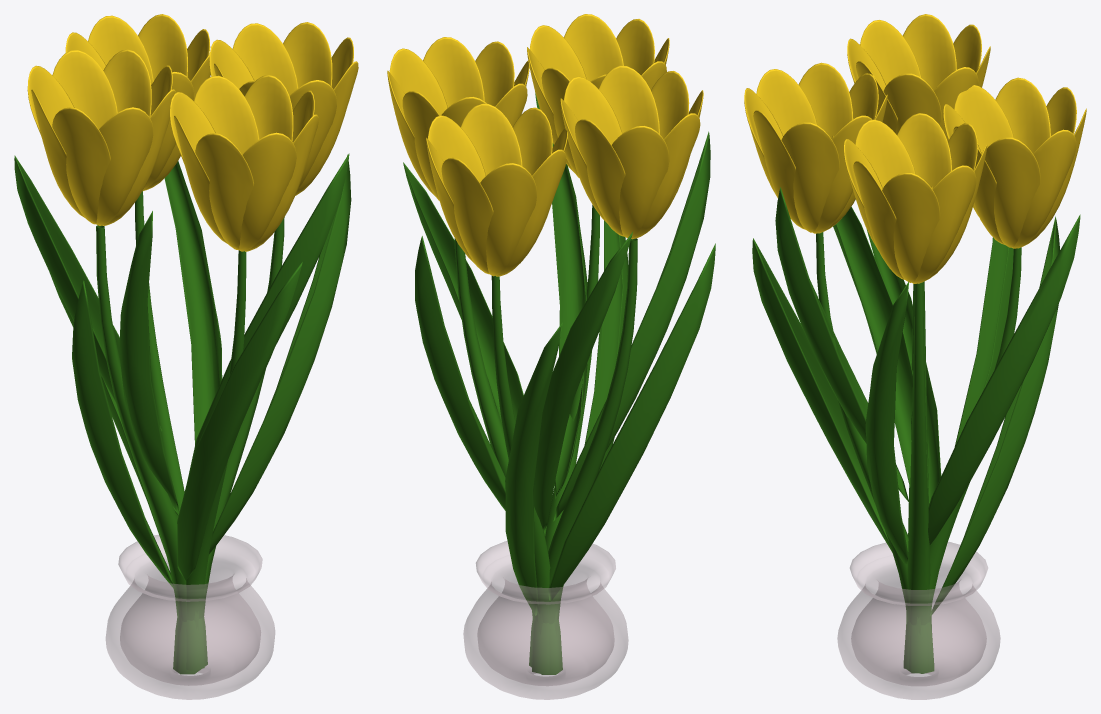
File: sf-tulips.glb
The picture shows the model from 3 angles, left to right: view 1: azimuth 30°, elevation 25°; view 2: azimuth 150°, elevation 25°; view 3: azimuth 270°, elevation 25°; orthographic projection. The views are drawn at different scales.
Parts seen in each view (by area): view 1: Object_6, Object_4, Object_8, Object_10; view 2: Object_6, Object_4, Object_8, Object_10; view 3: Object_6, Object_4, Object_8, Object_10.
Part boxes in pixels (x1,y1,x2,y2): Object_6: (27, 14, 358, 251); Object_4: (14, 153, 351, 588); Object_8: (106, 535, 274, 699); Object_10: (96, 191, 284, 674); Object_6: (387, 14, 703, 276); Object_4: (403, 93, 715, 615); Object_8: (463, 541, 628, 699); Object_10: (454, 205, 637, 674); Object_6: (744, 14, 1086, 283); Object_4: (752, 187, 1080, 615); Object_8: (837, 542, 1000, 699); Object_10: (816, 232, 1021, 673).
Bounding box in the file's own units: 0.2343 × 0.45 × 0.2343.
